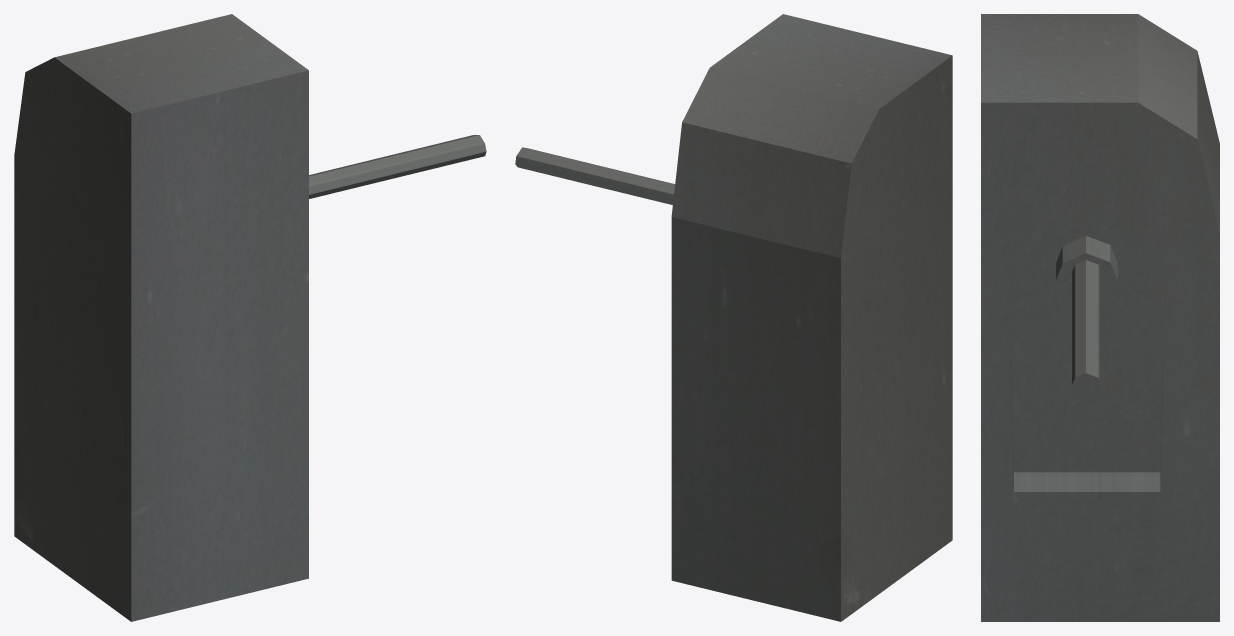
File: tunstyle.fbx
3 views of the same model, side by side, from view 1: azimuth 30°, elevation 25°; view 2: azimuth 150°, elevation 25°; view 3: azimuth 270°, elevation 25° (orthographic). The views are drawn at different scales.
Visible parts, largest first — view 1: Cube; view 2: Cube; view 3: Cube.
Boxes of the visible parts, box(x1,y1,x2,y2) form: Cube: box(14, 14, 486, 621); Cube: box(515, 14, 952, 621); Cube: box(981, 14, 1219, 621).
Bounding box in the file's own units: 450 × 547 × 228.
